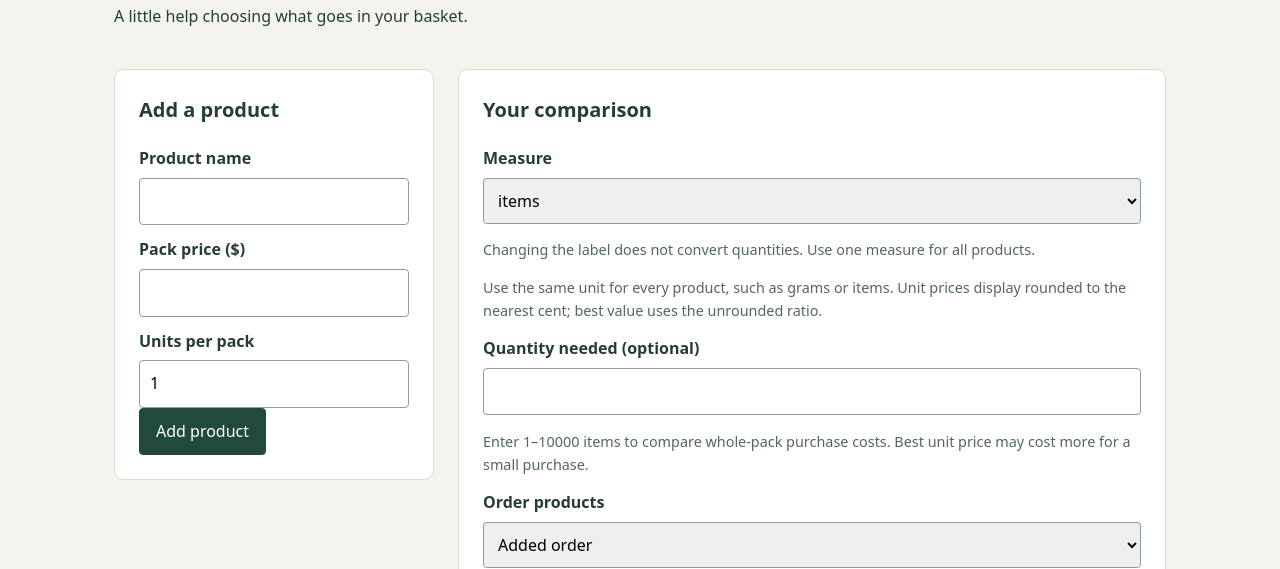
it: sorts cards and shows whole-pack purchase costs
The width and height of the screenshot is (1280, 569).
Select "Lowest unit price" in the dropdown labelled "Order products": (812, 545) [483,522,1141,568]
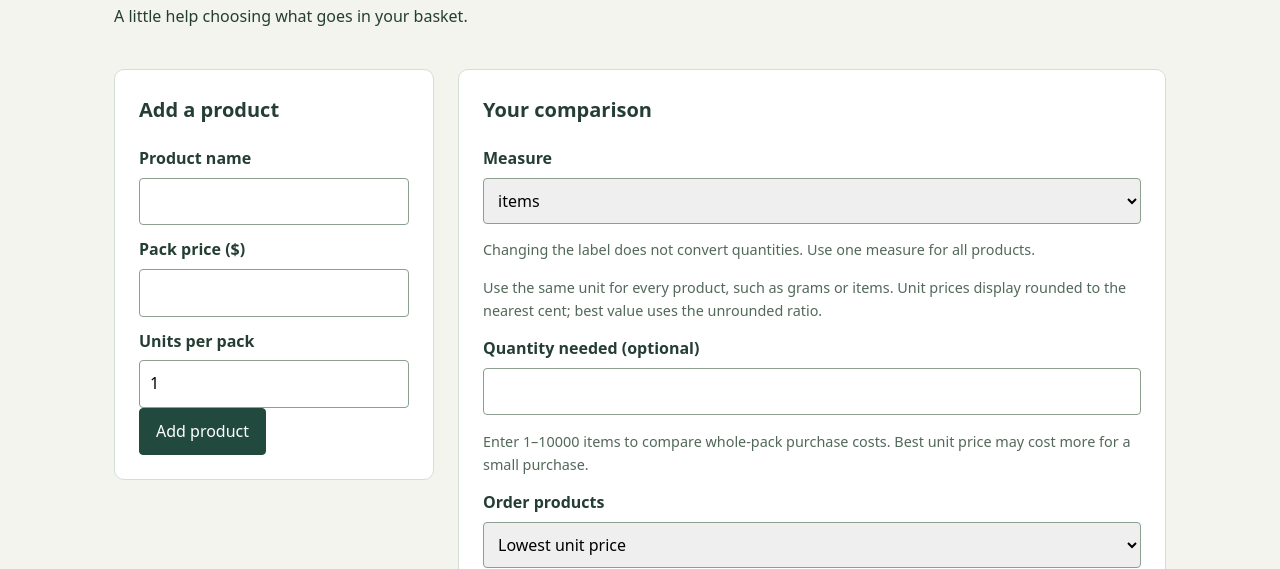
In the number field labelled "Quantity needed (optional)": (812, 392) [483,368,1141,415], type "6"
(page scrolled)
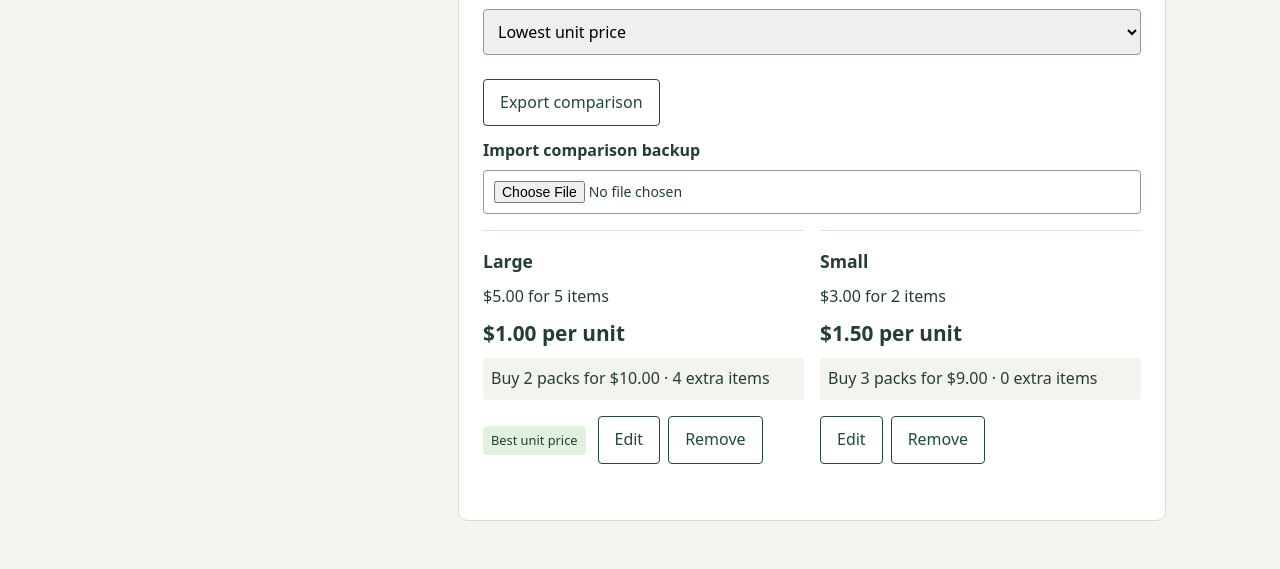
expect the text "Buy 2 packs for $10.00 · 4 extra items" is shown: met, box [483,358,804,400]
expect the text "Buy 3 packs for $9.00 · 0 extra items" is shown: met, box [820,358,1141,400]
